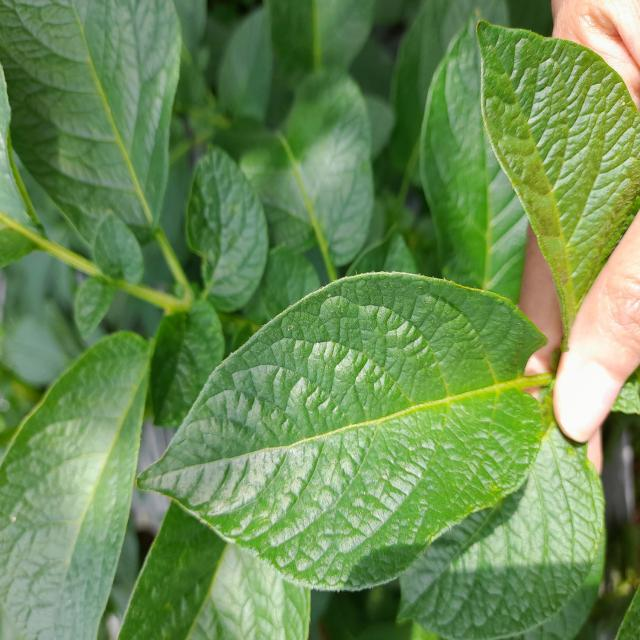healthy: (135, 268, 552, 594)
